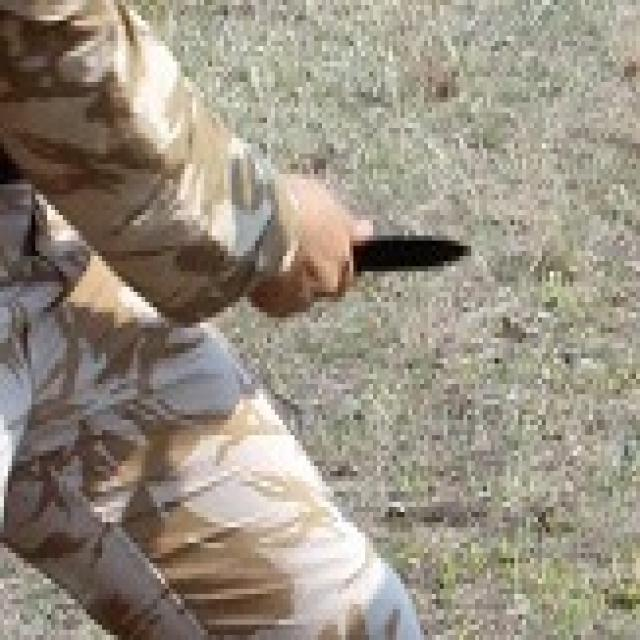knife: (350, 226, 483, 286)
